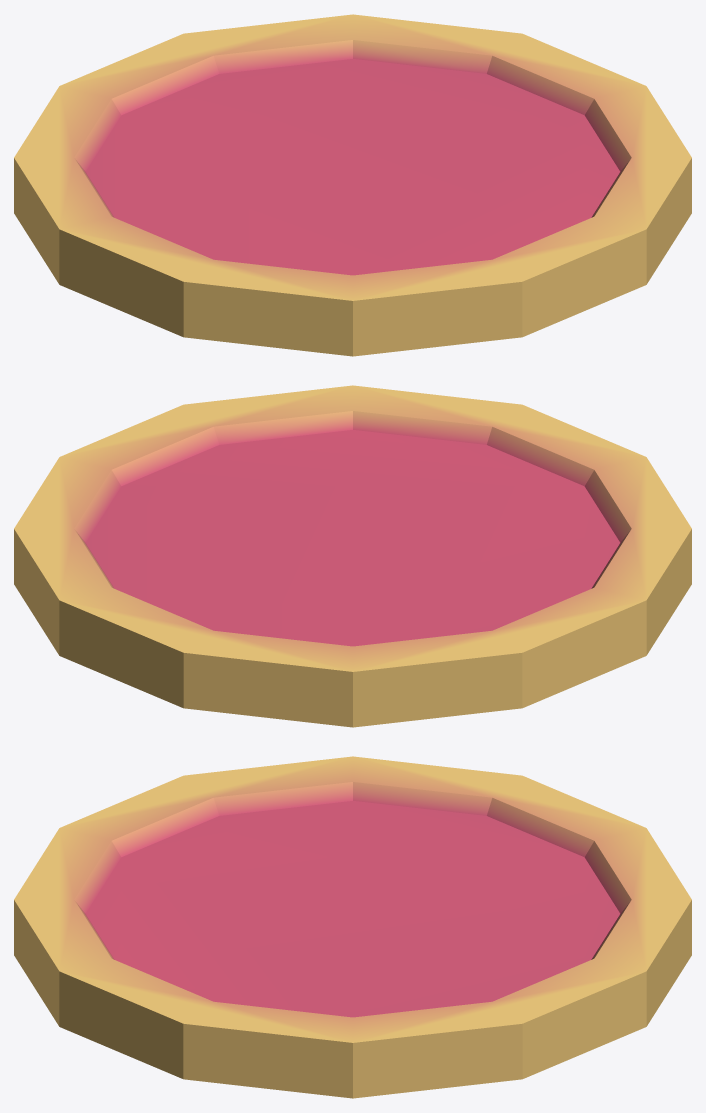
3 renders of one model, top to bottom at view 1: azimuth 30°, elevation 25°; view 2: azimuth 150°, elevation 25°; view 3: azimuth 270°, elevation 25°, orthographic.
Parts seen in each view (by area): view 1: tray_body; view 2: tray_body; view 3: tray_body.
Part boxes in pixels (left/top/right/bottom): tray_body: left=14, top=14, right=691, bottom=356; tray_body: left=14, top=385, right=691, bottom=727; tray_body: left=14, top=756, right=691, bottom=1098.
Size of the model in its own units: 0.18 by 0.0163 by 0.18.
